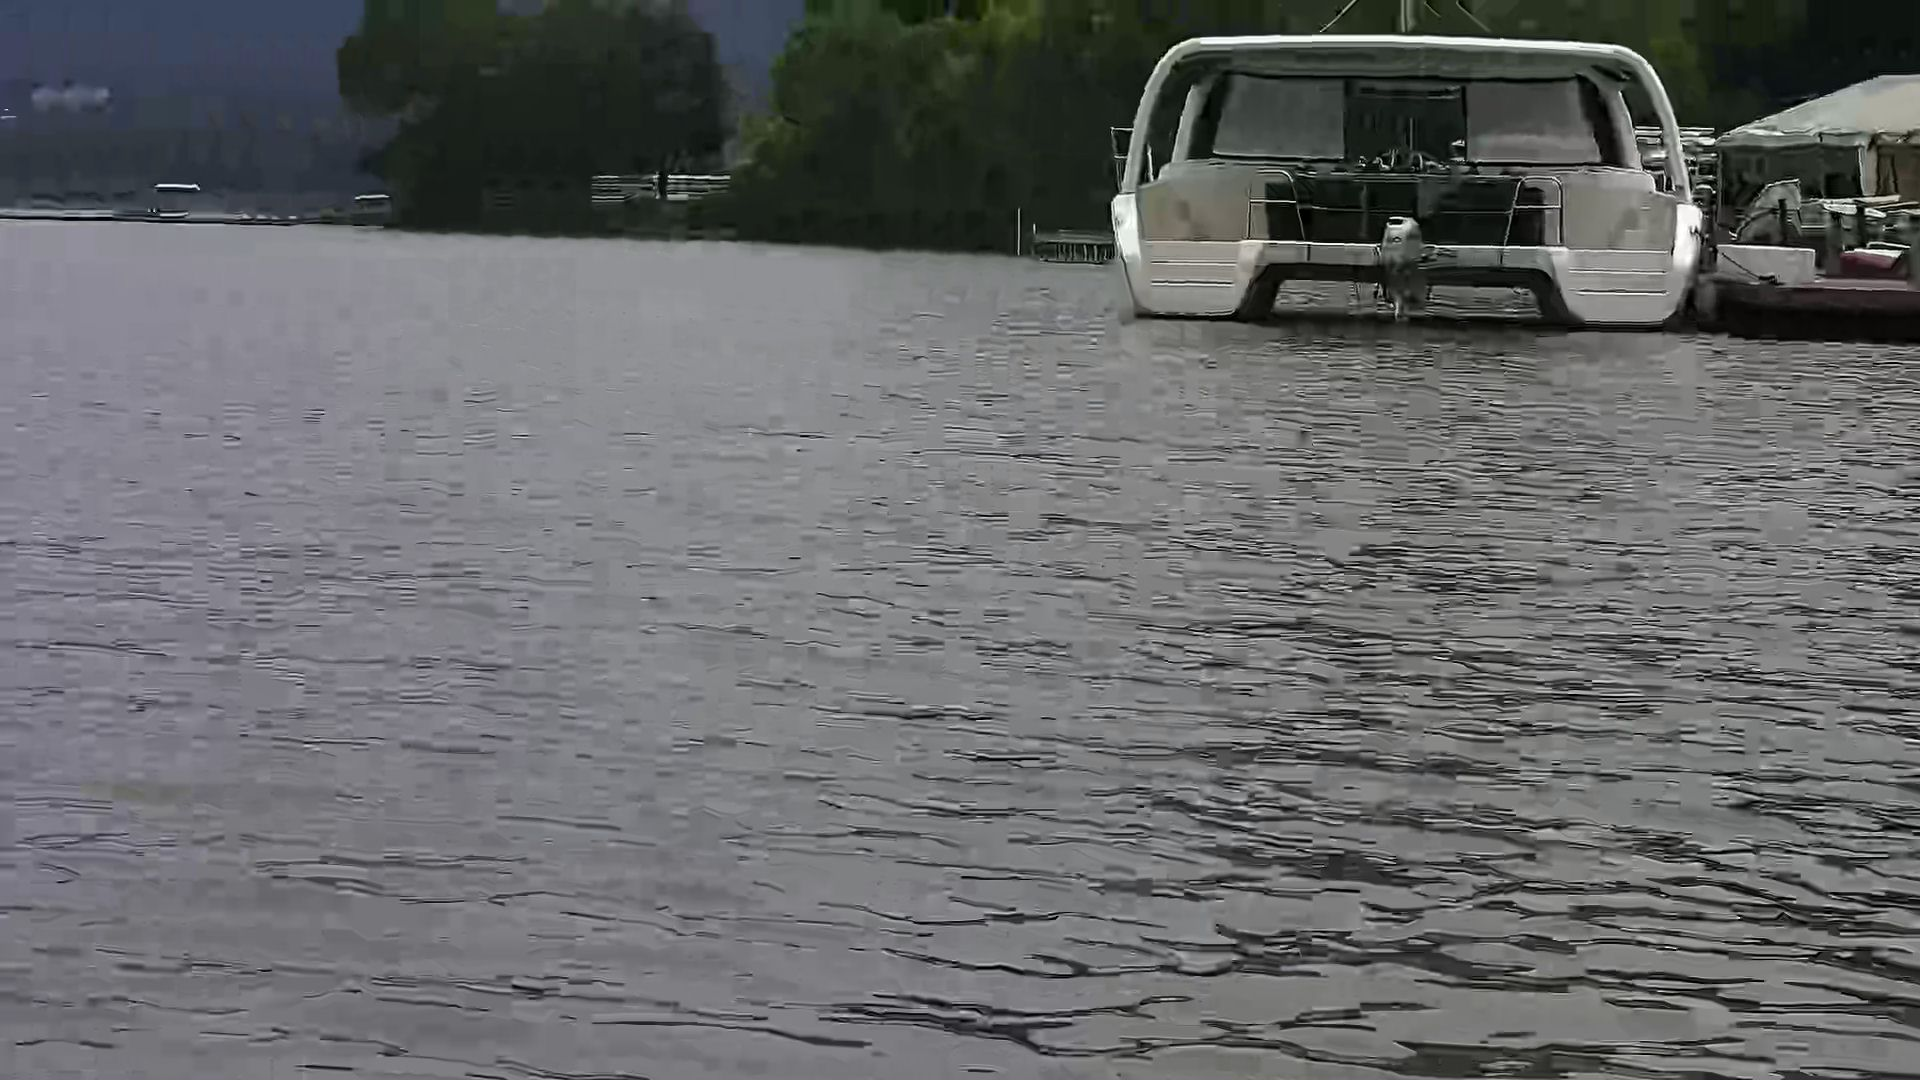boat: (1108, 11, 1706, 330)
